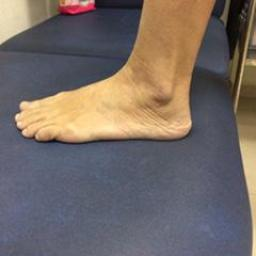Lateral View -Left Foot-: (8, 44, 205, 147)
